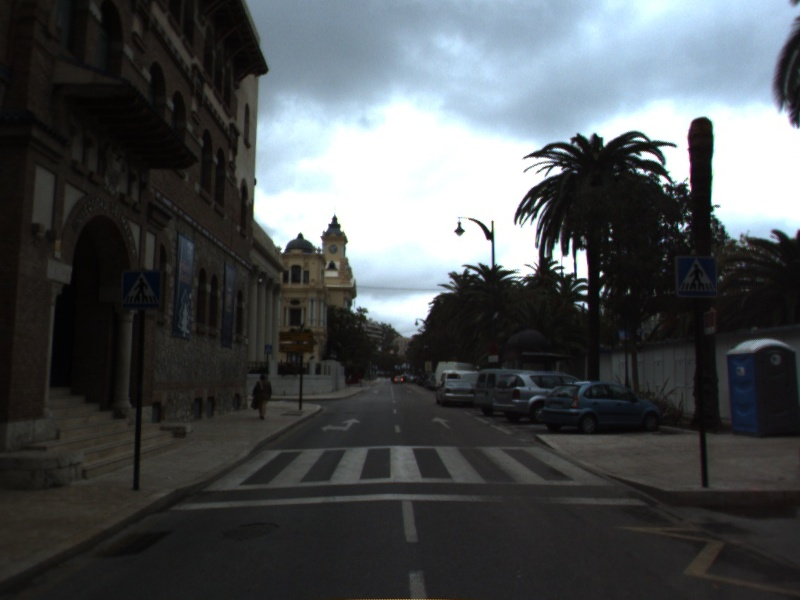STRAIGHT: (429, 415, 454, 431)
STRAIGHT_LEFT: (318, 416, 363, 434)
